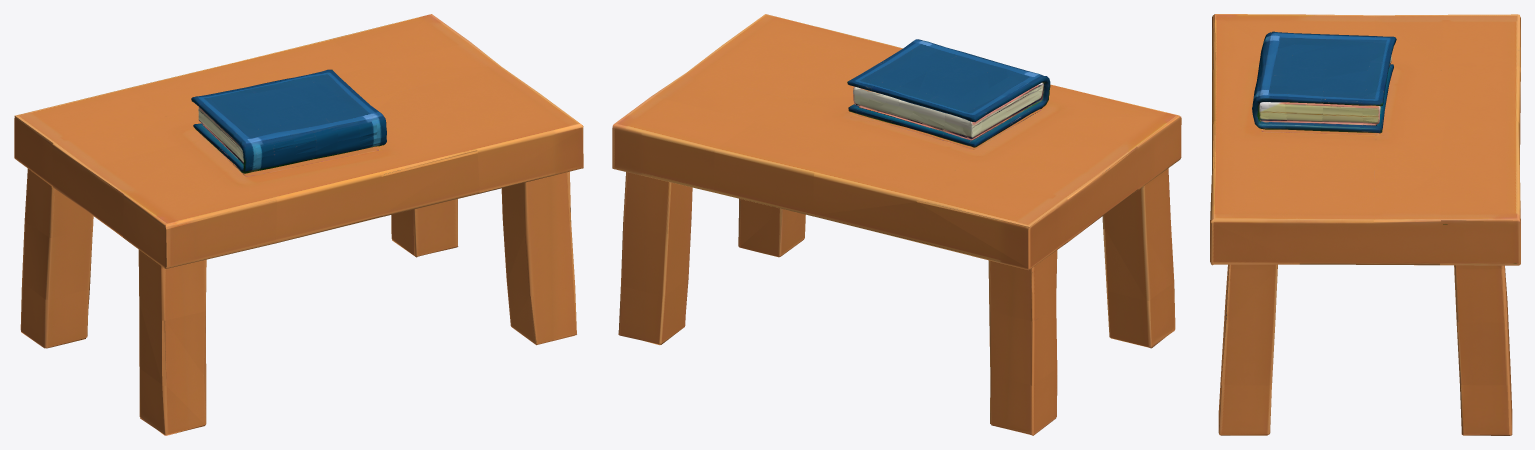
The model's file is researchTable.glb.
3 views of the same model, side by side, from view 1: azimuth 30°, elevation 25°; view 2: azimuth 150°, elevation 25°; view 3: azimuth 270°, elevation 25° (orthographic).
Size of the model in its own units: 1 by 0.5703 by 0.6367.
Materials: 1 (1 with a texture image).
